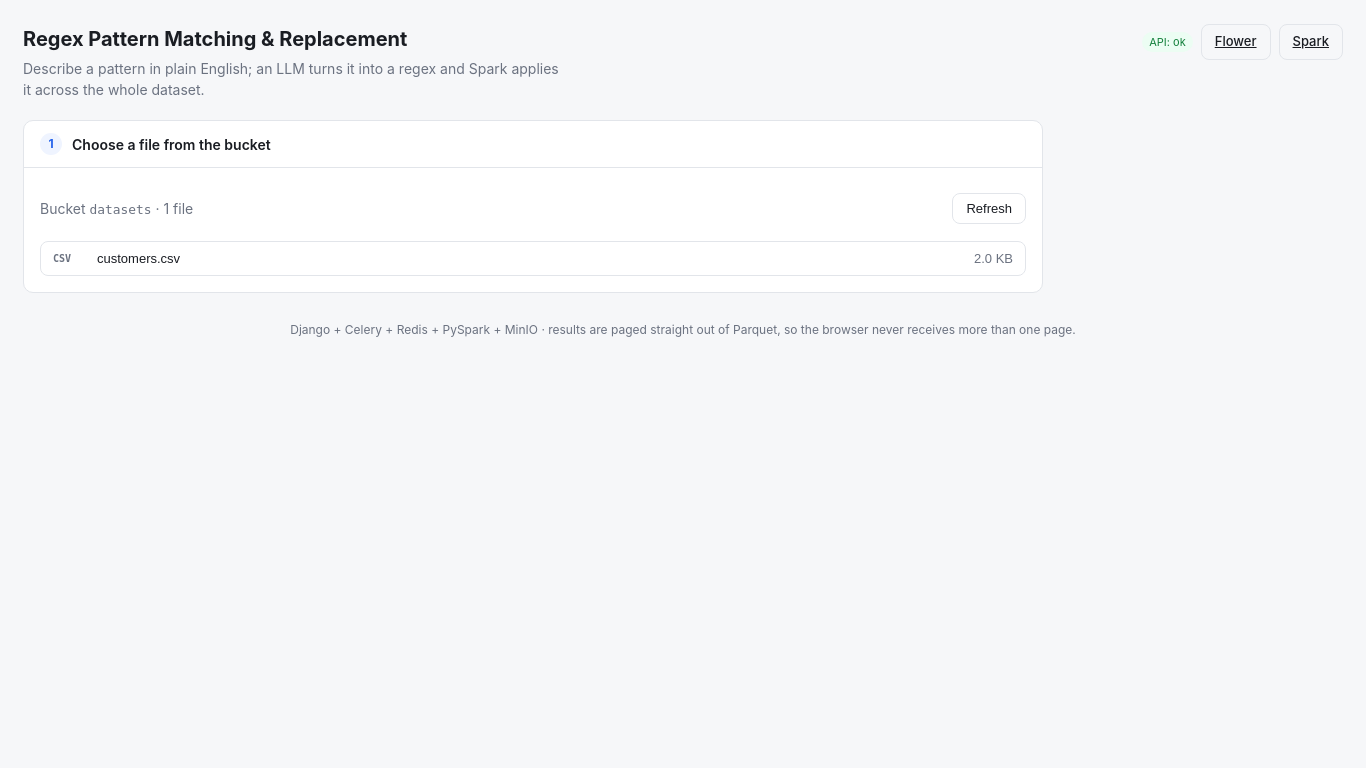
App wizard › surfaces a submit failure without advancing the wizard
Click the button "CSV customers.csv 2.0 KB": point(139, 259) [40,241,1026,276]
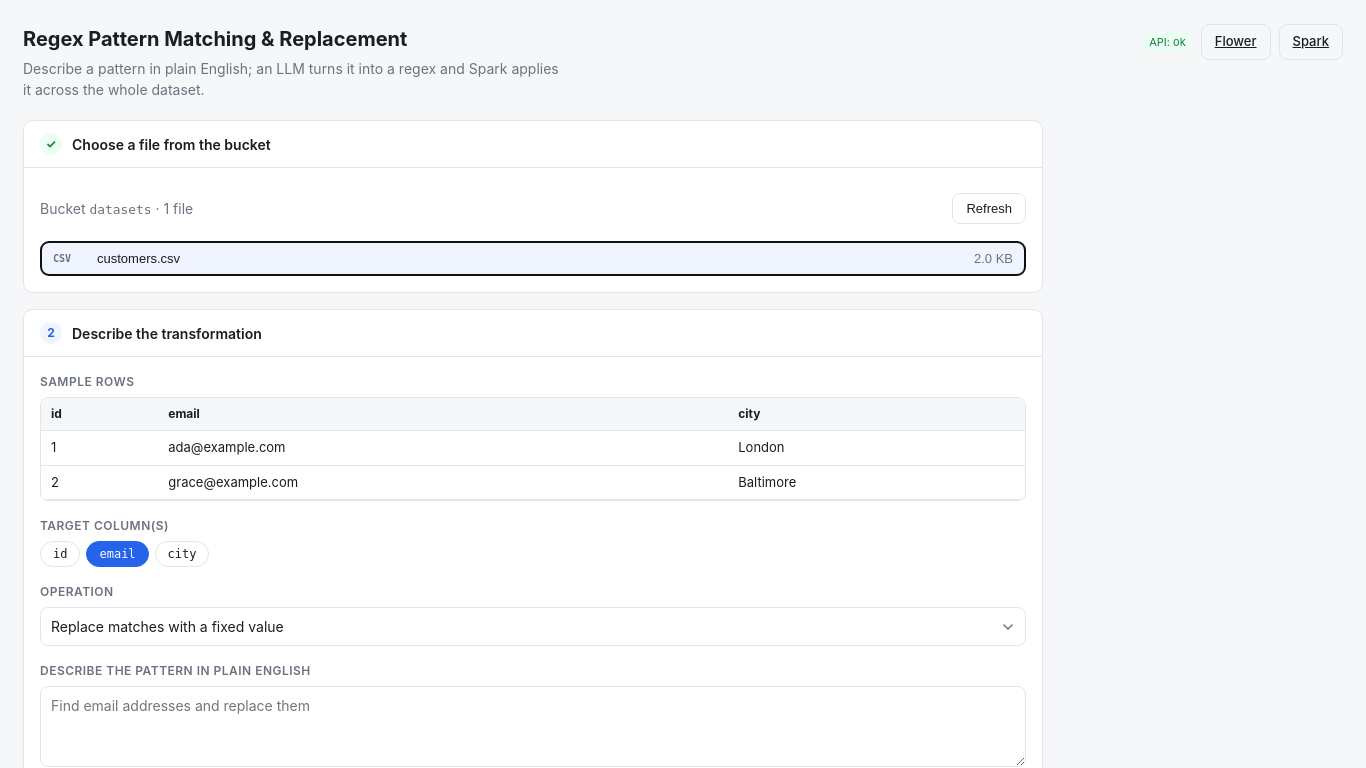
Check: the text "Sample rows" is shown, box [40,374,134,389]
In the text box labelled "Describe the pattern in plain English Use the example": point(533, 727) [40,686,1026,767], type "redact emails"
(page scrolled)
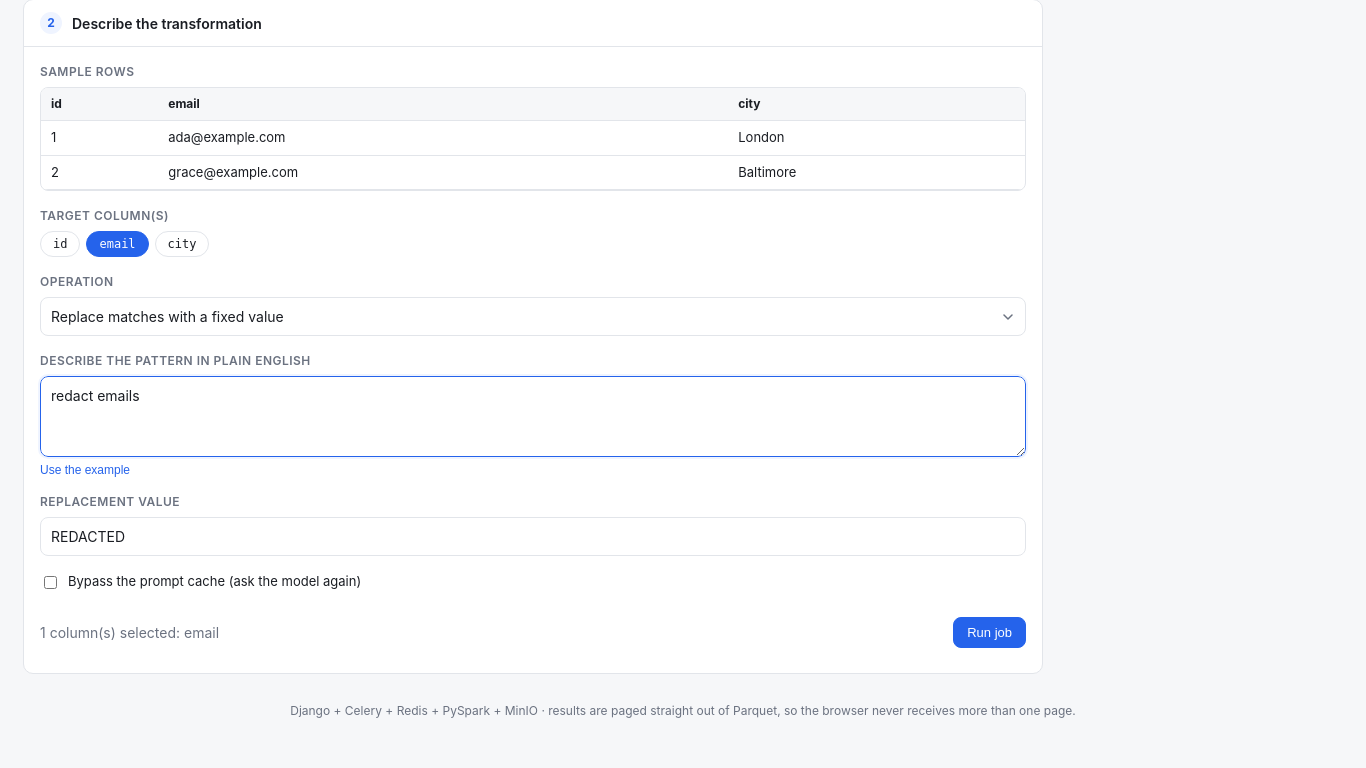
Click the button "Run job": point(990, 632) [953,617,1026,648]
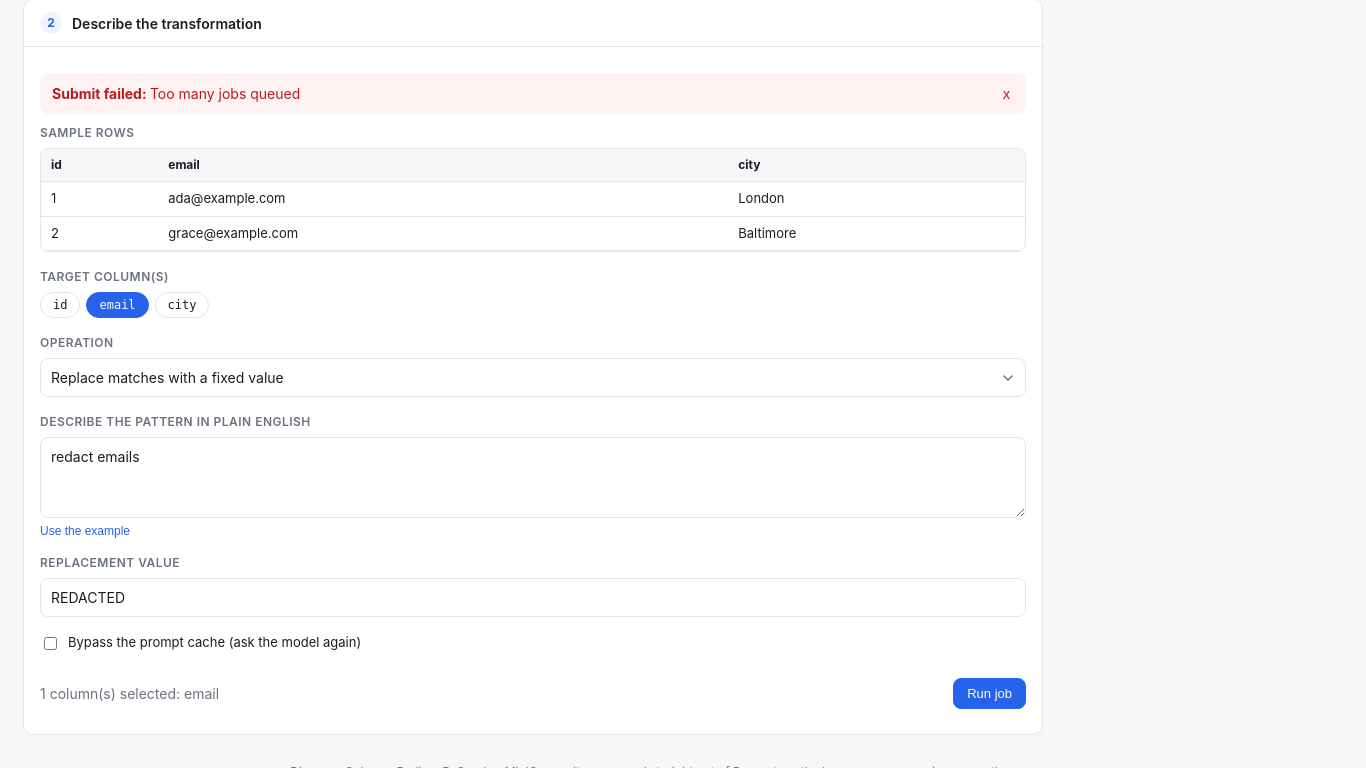
Check: the message shows "Too many jobs queued", box [150,85,300,102]
